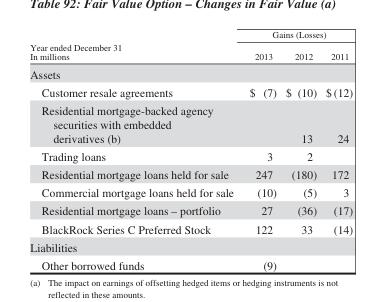table: (29, 29, 352, 271)
table column: (29, 29, 240, 271), (240, 29, 280, 271), (280, 29, 320, 271), (320, 29, 352, 271)
table column header: (29, 29, 352, 64)
table projected row header: (29, 64, 352, 82), (29, 237, 352, 255)
table row: (29, 100, 352, 147), (29, 45, 352, 64), (29, 64, 352, 82), (29, 82, 352, 100), (29, 147, 352, 165), (29, 165, 352, 183), (29, 183, 352, 201), (29, 201, 352, 219), (29, 219, 352, 237), (29, 237, 352, 255), (29, 29, 352, 45), (29, 255, 352, 271)
table spanning cell: (29, 29, 240, 64), (240, 29, 352, 45)
